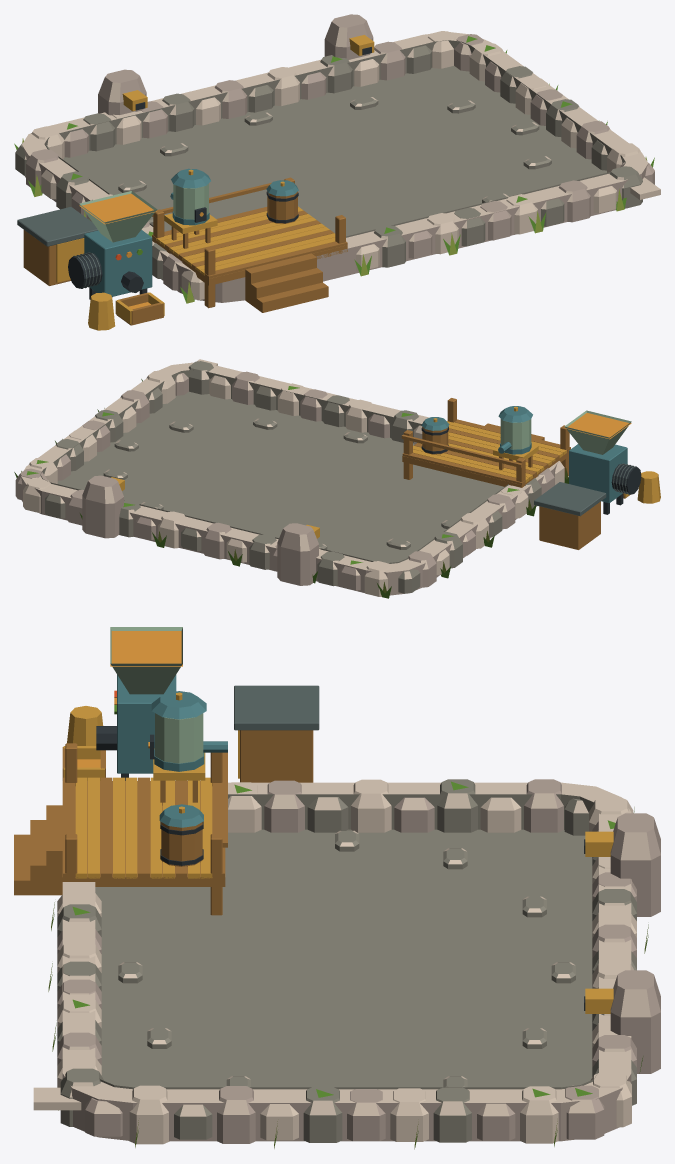
Rendered from FishPond_A_Lv3_High.fbx.
3 views of the same model, one above another, from view 1: azimuth 30°, elevation 25°; view 2: azimuth 150°, elevation 25°; view 3: azimuth 270°, elevation 25° (orthographic). The views are drawn at different scales.
Visible parts, largest first — view 1: FishPond_A_Lv3_High; view 2: FishPond_A_Lv3_High; view 3: FishPond_A_Lv3_High.
Part boxes in pixels (<box>): FishPond_A_Lv3_High: <box>14,14,660,330</box>; FishPond_A_Lv3_High: <box>14,359,660,598</box>; FishPond_A_Lv3_High: <box>14,627,660,1149</box>.
Bounding box in the file's own units: 17.74 × 2.99 × 11.95.
